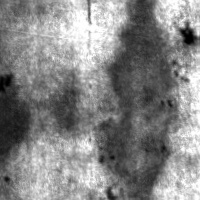inclusion: (177, 19, 198, 48)
patches: (99, 0, 181, 198), (0, 69, 43, 160), (45, 64, 92, 141)
